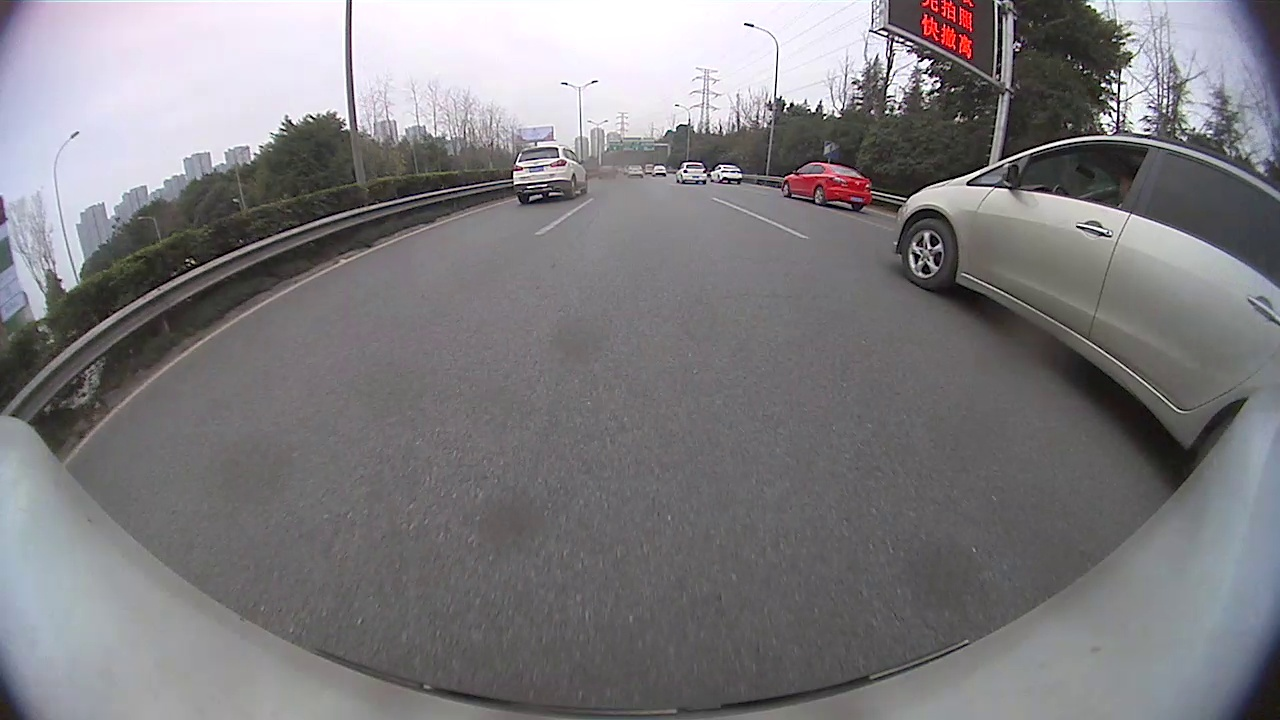car: (889, 131, 1278, 467), (781, 160, 872, 211), (512, 145, 587, 206), (710, 162, 743, 185), (676, 161, 706, 183)
front: (899, 219, 955, 293), (782, 184, 790, 199)
rear: (568, 177, 578, 199), (814, 188, 825, 206)
